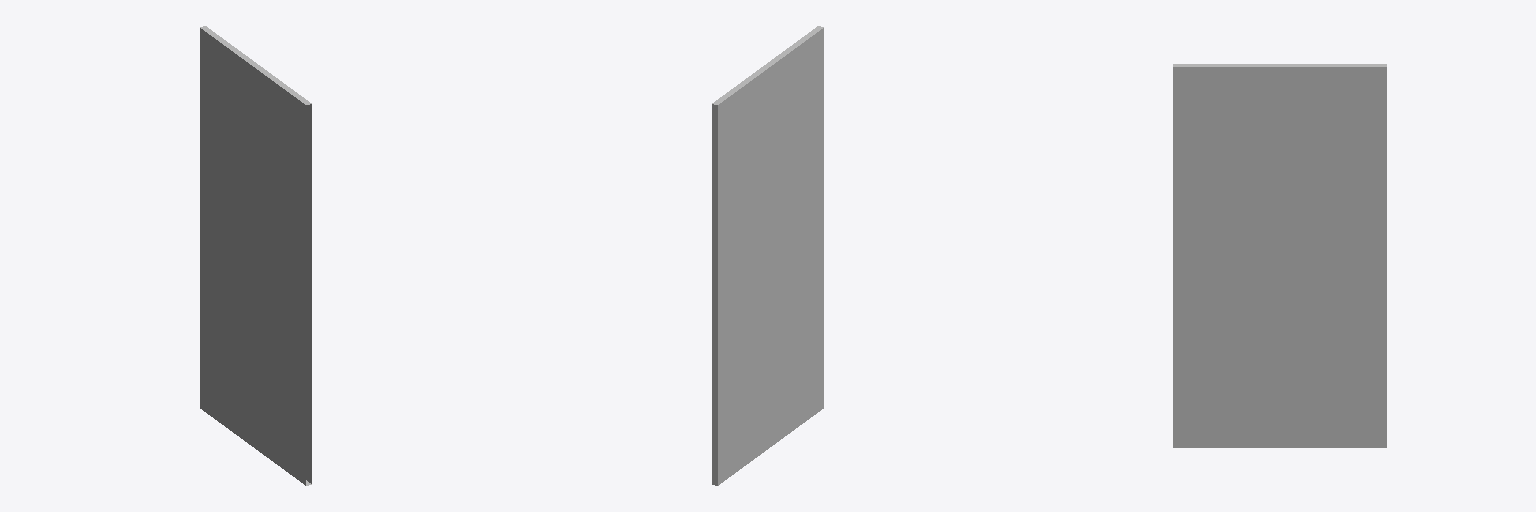
Rendered from original-7.obj.
The picture shows the model from 3 angles: view 1: azimuth 30°, elevation 25°; view 2: azimuth 150°, elevation 25°; view 3: azimuth 270°, elevation 25°; orthographic projection.
Visible parts, largest first — view 1: mesh4/mesh4-geometry#mesh4-geometry; view 2: mesh4/mesh4-geometry#mesh4-geometry; view 3: mesh4/mesh4-geometry#mesh4-geometry.
Part boxes in pixels (x1,y1,x2,y2): mesh4/mesh4-geometry#mesh4-geometry: (200, 26, 311, 485); mesh4/mesh4-geometry#mesh4-geometry: (712, 26, 823, 485); mesh4/mesh4-geometry#mesh4-geometry: (1173, 64, 1386, 447).
Bounding box in the file's own units: 0.0267 × 1.61 × 0.8187.